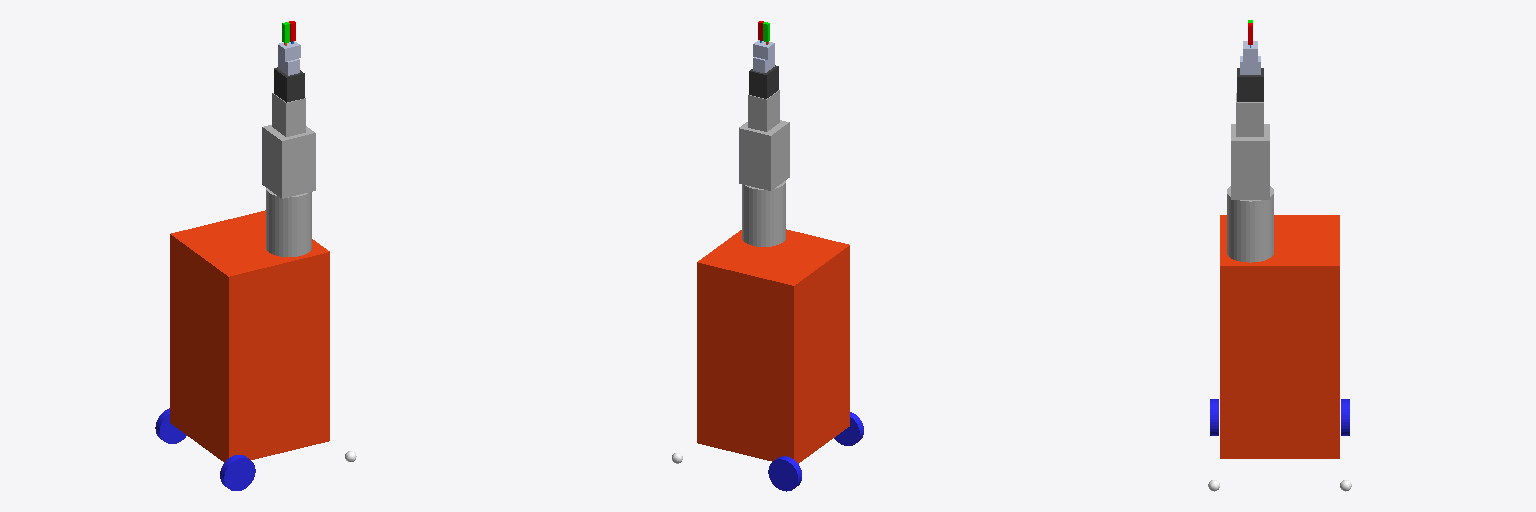
--- Render facts (derived) ---
3 views of the same robot in one strip: view 1: azimuth 30°, elevation 25°; view 2: azimuth 150°, elevation 25°; view 3: azimuth 270°, elevation 25° (orthographic).
Robot: robot_description — 22 links, 21 joints (12 revolute, 2 continuous, 7 fixed); root link base_link; default pose: all joints at 0.
Links seen in each view (by area): view 1: chassis, robot_link2, robot_link1, robot_link3, right_wheel, robot_link4, robot_link0, left_wheel; view 2: chassis, robot_link2, robot_link1, robot_link3, left_wheel, robot_link4, robot_link0, right_wheel; view 3: chassis, robot_link2, robot_link1, robot_link3, robot_link0, robot_link4.
Boxes of the visible links, box(x1,y1,x2,y2) form: chassis: box(170, 210, 329, 462); robot_link2: box(262, 125, 315, 198); robot_link1: box(266, 188, 311, 240); robot_link3: box(272, 93, 305, 136); right_wheel: box(220, 455, 255, 490); robot_link4: box(274, 67, 304, 102); robot_link0: box(266, 233, 311, 256); left_wheel: box(155, 408, 186, 443); chassis: box(697, 229, 849, 463); robot_link2: box(739, 120, 789, 190); robot_link1: box(742, 181, 785, 230); robot_link3: box(748, 90, 779, 131); left_wheel: box(768, 456, 801, 491); robot_link4: box(749, 65, 778, 98); robot_link0: box(742, 224, 785, 246); right_wheel: box(834, 412, 863, 445); chassis: box(1220, 215, 1339, 458); robot_link2: box(1231, 124, 1269, 199); robot_link1: box(1227, 186, 1273, 245); robot_link3: box(1236, 93, 1263, 136); robot_link0: box(1227, 238, 1273, 262); robot_link4: box(1237, 68, 1263, 101).
Bounding box of the posed robot: 0.5325 × 0.485 × 1.66 m (x, y, z).
Geometry: primitives only (box / cylinder / sphere), no mesh files.

robot.urdf — robot_description:
<?xml version="1.0" ?>
<!-- =================================================================================== -->
<!-- |    This document was autogenerated by xacro from robot_ignition.xacro           | -->
<!-- |    EDITING THIS FILE BY HAND IS NOT RECOMMENDED                                 | -->
<!-- =================================================================================== -->
<robot name="robot_description">
  <!-- Specify some standard inertial calculations https://en.wikipedia.org/wiki/List_of_moments_of_inertia -->
  <!-- These make use of xacro's mathematical functionality -->
  <material name="white">
    <color rgba="1 1 1 1"/>
  </material>
  <material name="orange">
    <color rgba="1 0.3 0.1 1"/>
  </material>
  <material name="blue">
    <color rgba="0.2 0.2 1 1"/>
  </material>
  <material name="black">
    <color rgba="0 0 0 1"/>
  </material>
  <material name="red">
    <color rgba="1 0 0 1"/>
  </material>
  <!-- BASE LINK -->
  <link name="base_link"/>
  <!-- BASE_FOOTPRINT LINK -->
  <joint name="base_footprint_joint" type="fixed">
    <parent link="base_link"/>
    <child link="base_footprint"/>
    <origin rpy="0 0 0" xyz="0 0 0"/>
  </joint>
  <link name="base_footprint">
    </link>
  <!-- <link name="odom"></link>
    <joint name="odom_joint" type="fixed">
        <parent link="base_link"/>
        <child link="odom"/>
        <origin xyz="0 0 0"/>
    </joint> -->
  <!-- BASE LINK -->
  <joint name="floor_joint" type="fixed">
    <parent link="base_link"/>
    <child link="floor"/>
    <origin xyz="0 0 0.0625"/>
  </joint>
  <link name="floor"/>
  <!-- BASE_FOOTPRINT LINK -->
  <!-- <joint name="base_footprint_joint" type="fixed">
        <parent link="floor"/>
        <child link="base_footprint"/>
        <origin xyz="0 0 0" rpy="0 0 0"/>
    </joint>

    <link name="base_footprint">
    </link> -->
  <!-- CHASSIS LINK -->
  <joint name="chassis_joint" type="fixed">
    <parent link="floor"/>
    <child link="chassis"/>
    <origin xyz="-0.025 0 0.025"/>
  </joint>
  <link name="chassis">
    <visual>
      <origin xyz="0.2025 0 0.36"/>
      <geometry>
        <box size="0.405 0.405 0.72"/>
      </geometry>
      <material name="orange"/>
    </visual>
    <collision>
      <origin xyz="0.2025 0 0.36"/>
      <geometry>
        <box size="0.405 0.405 0.72"/>
      </geometry>
    </collision>
    <inertial>
      <origin rpy="0 0 0" xyz="0.2025 0 0.36"/>
      <mass value="10.0"/>
      <inertia ixx="0.5686875" ixy="0.0" ixz="0.0" iyy="0.5686875" iyz="0.0" izz="0.27337500000000003"/>
    </inertial>
  </link>
  <!-- LEFT WHEEL LINK -->
  <joint name="left_wheel_joint" type="continuous">
    <parent link="floor"/>
    <child link="left_wheel"/>
    <origin rpy="-1.5707963267948966 0 0" xyz="0 0.2225 0"/>
    <axis xyz="0 0 1"/>
    <dynamics damping="21.75" friction="10.48" spring_reference="0" spring_stiffness="{joint_spring_stiffness}"/>
  </joint>
  <link name="left_wheel">
    <visual>
      <geometry>
        <cylinder length="0.03" radius="0.0625"/>
      </geometry>
      <material name="blue"/>
    </visual>
    <collision>
      <geometry>
        <sphere radius="0.0625"/>
      </geometry>
    </collision>
    <inertial>
      <origin rpy="0 0 0" xyz="0 0 0"/>
      <mass value="0.05"/>
      <inertia ixx="5.2578125e-05" ixy="0.0" ixz="0.0" iyy="5.2578125e-05" iyz="0.0" izz="9.765625e-05"/>
    </inertial>
  </link>
  <!-- RIGHT WHEEL LINK -->
  <joint name="right_wheel_joint" type="continuous">
    <parent link="floor"/>
    <child link="right_wheel"/>
    <origin rpy="1.5707963267948966 0 0" xyz="0 -0.2225 0"/>
    <axis xyz="0 0 -1"/>
    <dynamics damping="21.75" friction="10.48" spring_reference="0" spring_stiffness="{joint_spring_stiffness}"/>
  </joint>
  <link name="right_wheel">
    <visual>
      <geometry>
        <cylinder length="0.03" radius="0.0625"/>
      </geometry>
      <material name="blue"/>
    </visual>
    <collision>
      <geometry>
        <sphere radius="0.0625"/>
      </geometry>
    </collision>
    <inertial>
      <origin rpy="0 0 0" xyz="0 0 0"/>
      <mass value="0.05"/>
      <inertia ixx="5.2578125e-05" ixy="0.0" ixz="0.0" iyy="5.2578125e-05" iyz="0.0" izz="9.765625e-05"/>
    </inertial>
  </link>
  <!-- CASTER WHEEL LINK -->
  <joint name="caster_wheel_joint" type="revolute">
    <parent link="chassis"/>
    <child link="caster_wheel"/>
    <origin xyz="0.475 0.2225 -0.06749999999999999"/>
    <axis xyz="0 0 1"/>
    <limit effort="100" lower="-1.5707963267948966" upper="1.5707963267948966" velocity="100"/>
    <dynamics damping="21.75" friction="10.48" spring_reference="0" spring_stiffness="{joint_spring_stiffness}"/>
  </joint>
  <link name="caster_wheel">
    <visual>
      <geometry>
        <sphere radius="0.02"/>
      </geometry>
      <material name="white"/>
    </visual>
    <collision>
      <geometry>
        <sphere radius="0.02"/>
      </geometry>
    </collision>
    <inertial>
      <origin rpy="0 0 0" xyz="0 0 0"/>
      <mass value="0.01"/>
      <inertia ixx="1.6000000000000001e-06" ixy="0.0" ixz="0.0" iyy="1.6000000000000001e-06" iyz="0.0" izz="1.6000000000000001e-06"/>
    </inertial>
  </link>
  <joint name="caster_wheel_joint2" type="revolute">
    <parent link="chassis"/>
    <child link="caster_wheel2"/>
    <origin xyz="0.475 -0.2225 -0.06749999999999999"/>
    <axis xyz="0 0 1"/>
    <limit effort="100" lower="-1.5707963267948966" upper="1.5707963267948966" velocity="100"/>
    <dynamics damping="21.75" friction="10.48" spring_reference="0" spring_stiffness="{joint_spring_stiffness}"/>
  </joint>
  <link name="caster_wheel2">
    <visual>
      <geometry>
        <sphere radius="0.02"/>
      </geometry>
      <material name="white"/>
    </visual>
    <collision>
      <geometry>
        <sphere radius="0.02"/>
      </geometry>
    </collision>
    <inertial>
      <origin rpy="0 0 0" xyz="0 0 0"/>
      <mass value="0.01"/>
      <inertia ixx="1.6000000000000001e-06" ixy="0.0" ixz="0.0" iyy="1.6000000000000001e-06" iyz="0.0" izz="1.6000000000000001e-06"/>
    </inertial>
  </link>
  <joint name="robot_joint0" type="fixed">
    <origin rpy="0 0 0.0" xyz="0.3 -0.1 0.72"/>
    <parent link="chassis"/>
    <child link="robot_link0"/>
  </joint>
  <link name="robot_link0">
    <inertial>
      <origin rpy="0 0 0" xyz="0 0 0.031"/>
      <mass value="0.001246584"/>
      <inertia ixx="2.3938568079999997e-06" ixy="0.0" ixz="0.0" iyy="2.3938568079999997e-06" iyz="0.0" izz="3.9890688e-06"/>
    </inertial>
    <visual>
      <origin rpy="0 0 0" xyz="0 0 0.031"/>
      <geometry>
        <cylinder length="0.062" radius="0.08"/>
      </geometry>
      <material name="">
        <color rgba="0.75294 0.75294 0.75294 1"/>
      </material>
    </visual>
    <collision>
      <origin rpy="0 0 0" xyz="0 0 0.031"/>
      <geometry>
        <cylinder length="0.062" radius="0.08"/>
      </geometry>
    </collision>
  </link>
  <joint name="robot_joint1" type="revolute">
    <origin rpy="0 0 0" xyz="0 0 0.062"/>
    <parent link="robot_link0"/>
    <child link="robot_link1"/>
    <axis xyz="0 0 1"/>
    <limit effort="100" lower="-1.5707963267948966" upper="1.5707963267948966" velocity="100"/>
    <dynamics damping="0.01" friction="0.01" spring_reference="0" spring_stiffness="{joint_spring_stiffness}"/>
  </joint>
  <link name="robot_link1">
    <inertial>
      <origin rpy="0 0 0" xyz="0 0 0.08275"/>
      <mass value="0.003327575"/>
      <inertia ixx="1.2919379261979165e-05" ixy="0.0" ixz="0.0" iyy="1.2919379261979165e-05" iyz="0.0" izz="1.064824e-05"/>
    </inertial>
    <visual>
      <origin rpy="0 0 0" xyz="0 0 0.08275"/>
      <geometry>
        <cylinder length="0.1655" radius="0.08"/>
      </geometry>
      <material name="">
        <color rgba="0.75294 0.75294 0.75294 1"/>
      </material>
    </visual>
    <collision>
      <origin rpy="0 0 0" xyz="0 0 0.08275"/>
      <geometry>
        <cylinder length="0.1655" radius="0.08"/>
      </geometry>
    </collision>
  </link>
  <link name="robot_link2">
    <inertial>
      <origin rpy="0 0 0" xyz="0 0 0.1101"/>
      <mass value="0.003989399"/>
      <inertia ixx="2.214289318956667e-05" ixy="0.0" ixz="0.0" iyy="2.214289318956667e-05" iyz="0.0" izz="1.2046096664473334e-05"/>
    </inertial>
    <visual>
      <origin rpy="0 0 0" xyz="0 0 0.1101"/>
      <geometry>
        <box size="0.1346 0.1346 0.2202"/>
      </geometry>
      <material name="">
        <color rgba="0.75294 0.75294 0.75294 1"/>
      </material>
    </visual>
    <collision>
      <origin rpy="0 0 0" xyz="0 0 0.1101"/>
      <geometry>
        <box size="0.1346 0.1346 0.2202"/>
      </geometry>
    </collision>
  </link>
  <joint name="robot_joint2" type="revolute">
    <origin rpy="0 0 0" xyz="0 0 0.1655"/>
    <parent link="robot_link1"/>
    <child link="robot_link2"/>
    <axis xyz="1 0 0"/>
    <limit effort="5" lower="-1.570796327" upper="1.570796327" velocity="1"/>
    <dynamics damping="0.01" friction="0.01" spring_reference="0" spring_stiffness="{joint_spring_stiffness}"/>
  </joint>
  <link name="robot_link3">
    <inertial>
      <origin rpy="0 0 0" xyz="0 0 0.06495"/>
      <mass value="0.000957623"/>
      <inertia ixx="2.0667906377691666e-06" ixy="0.0" ixz="0.0" iyy="1.8271263295591664e-06" iyz="0.0" izz="1.2007602876233333e-06"/>
    </inertial>
    <visual>
      <origin rpy="0 0 0" xyz="0 0 0.06495"/>
      <geometry>
        <box size="0.0776 0.095 0.1299"/>
      </geometry>
      <material name="">
        <color rgba="0.75294 0.75294 0.75294 1"/>
      </material>
    </visual>
    <collision>
      <origin rpy="0 0 0" xyz="0 0 0.06495"/>
      <geometry>
        <box size="0.0776 0.095 0.1299"/>
      </geometry>
    </collision>
  </link>
  <joint name="robot_joint3" type="revolute">
    <origin rpy="0 0 0" xyz="0 0 0.2202"/>
    <parent link="robot_link2"/>
    <child link="robot_link3"/>
    <axis xyz="1 0 0"/>
    <limit effort="5" lower="-1.65" upper="1.65" velocity="1"/>
    <dynamics damping="0.01" friction="0.01" spring_reference="0" spring_stiffness="{joint_spring_stiffness}"/>
  </joint>
  <link name="robot_link4">
    <inertial>
      <origin rpy="0 0 0" xyz="0 0 0.04745"/>
      <mass value="0.000607957"/>
      <inertia ixx="8.584768277283333e-07" ixy="0.0" ixz="0.0" iyy="7.181806173616666e-07" iyz="0.0" izz="6.641129748283332e-07"/>
    </inertial>
    <visual>
      <origin rpy="0 0 0" xyz="0 0 0.04745"/>
      <geometry>
        <box size="0.0719 0.0891 0.0949"/>
      </geometry>
      <material name="">
        <color rgba="0.29412 0.29412 0.29412 1"/>
      </material>
    </visual>
    <collision>
      <origin rpy="0 0 0" xyz="0 0 0.04745"/>
      <geometry>
        <box size="0.0719 0.0891 0.0949"/>
      </geometry>
    </collision>
  </link>
  <joint name="robot_joint4" type="revolute">
    <origin rpy="0 0 0" xyz="0 0 0.1299"/>
    <parent link="robot_link3"/>
    <child link="robot_link4"/>
    <axis xyz="0 0 1"/>
    <limit effort="5" lower="-3.14" upper="3.14" velocity="1"/>
    <dynamics damping="0.01" friction="0.01" spring_reference="0" spring_stiffness="{joint_spring_stiffness}"/>
  </joint>
  <link name="robot_link5">
    <inertial>
      <origin rpy="0 0 0" xyz="0 0 0.0255"/>
      <mass value="0.00017136"/>
      <inertia ixx="1.0711428000000001e-07" ixy="0.0" ixz="0.0" iyy="7.00434e-08" iyz="0.0" izz="1.0287312000000001e-07"/>
    </inertial>
    <visual>
      <origin rpy="0 0 0" xyz="0 0 0.0255"/>
      <geometry>
        <box size="0.048 0.07 0.051"/>
      </geometry>
      <material name="">
        <color rgba="0.79216 0.81961 0.93333 1"/>
      </material>
    </visual>
    <collision>
      <origin rpy="0 0 0" xyz="0 0 0.0255"/>
      <geometry>
        <box size="0.048 0.07 0.051"/>
      </geometry>
    </collision>
  </link>
  <joint name="robot_joint5" type="revolute">
    <origin rpy="0 0 0" xyz="0 0 0.0949"/>
    <parent link="robot_link4"/>
    <child link="robot_link5"/>
    <axis xyz="1 0 0"/>
    <limit effort="5" lower="-1.570796327" upper="1.570796327" velocity="1"/>
    <dynamics damping="0.01" friction="0.01" spring_reference="0" spring_stiffness="{joint_spring_stiffness}"/>
  </joint>
  <link name="robot_link6"/>
  <joint name="robot_joint6" type="revolute">
    <origin rpy="0 0 0" xyz="0 0 0.051"/>
    <parent link="robot_link5"/>
    <child link="robot_link6"/>
    <axis xyz="0 0 1"/>
    <limit effort="5" lower="-3" upper="3" velocity="1"/>
    <dynamics damping="0.01" friction="0.01" spring_reference="0" spring_stiffness="{joint_spring_stiffness}"/>
  </joint>
  <link name="robot_link7"/>
  <joint name="robot_joint7" type="fixed">
    <origin rpy="0 0 0" xyz="0 0 0"/>
    <parent link="robot_link6"/>
    <child link="robot_link7"/>
    <axis xyz="0 0 0"/>
  </joint>
  <link name="robot_hand">
    <inertial>
      <origin rpy="0 0 0" xyz="0 0 0.0245"/>
      <mass value="0.000151743"/>
      <inertia ixx="8.086940861000001e-08" ixy="0.0" ixz="0.0" iyy="6.07224905e-08" iyz="0.0" izz="8.086940861000001e-08"/>
    </inertial>
    <visual>
      <origin rpy="0 0 0" xyz="0 0 0.0245"/>
      <geometry>
        <box size="0.049 0.0632 0.049"/>
      </geometry>
      <material name="">
        <color rgba="0.79216 0.81961 0.93333 1"/>
      </material>
    </visual>
    <collision>
      <origin rpy="0 0 0" xyz="0 0 0.0245"/>
      <geometry>
        <box size="0.049 0.0632 0.049"/>
      </geometry>
    </collision>
  </link>
  <joint name="robot_hand_joint" type="fixed">
    <origin rpy="0 0 1.570796327" xyz="0 0 0"/>
    <parent link="robot_link7"/>
    <child link="robot_hand"/>
  </joint>
  <link name="robot_camera"/>
  <joint name="robot_camera_joint" type="fixed">
    <origin rpy="0 0 1.570796327" xyz="0.0645 0 0.0685"/>
    <parent link="robot_hand"/>
    <child link="robot_camera"/>
    <axis xyz="0 0 0"/>
  </joint>
  <link name="Gripper_Servo_Gear">
    <!-- <xacro:inertial_box mass="0.000001436" x="${gripper_servo_gear_width}" y="${gripper_servo_gear_length}" z="${gripper_servo_gear_height}">
        <origin xyz="0 0 ${gripper_servo_gear_height/2}" rpy="0 0 0"/>
    </xacro:inertial_box> -->
    <inertial>
      <origin rpy="0 0 0" xyz="0.0 0.0 0.01995"/>
      <mass value="0.000476207785199474"/>
      <inertia ixx="0.001" ixy="0" ixz="0" iyy="0.001" iyz="0" izz="0.001"/>
    </inertial>
    <visual>
      <origin rpy="0 0 0" xyz="0 0 0.01995"/>
      <geometry>
        <box size="0.006 0.006 0.0399"/>
      </geometry>
      <material name="">
        <color rgba="0.9098 0.44314 0.031373 1"/>
      </material>
    </visual>
    <collision>
      <origin rpy="0 0 0" xyz="0 0 0.01995"/>
      <geometry>
        <box size="0.006 0.006 0.0399"/>
      </geometry>
    </collision>
  </link>
  <joint name="robot_finger_joint1" type="revolute">
    <origin rpy="0.0 0.0 0.0" xyz="0 0.014 0.022"/>
    <parent link="robot_hand"/>
    <child link="Gripper_Servo_Gear"/>
    <axis xyz="1 0 0"/>
    <limit effort="5.0" lower="-1.5" upper="1.5" velocity="1.0"/>
    <dynamics damping="0.01" friction="0.01" spring_reference="0" spring_stiffness="{gripper_joint_spring_stiffness}"/>
  </joint>
  <link name="robot_rightfinger">
    <!-- <xacro:inertial_box mass="0.00002646" x="${tip_gripper_servo_width}" y="${tip_gripper_servo_length}" z="${tip_gripper_servo_height}">
        <origin xyz="0 0.003 ${tip_gripper_servo_height/2.0}" rpy="0 0 0"/>
    </xacro:inertial_box> -->
    <inertial>
      <origin rpy="0 0 0" xyz="0.0 0.003 0.035"/>
      <mass value="0.000476207785199474"/>
      <inertia ixx="0.001" ixy="0" ixz="0" iyy="0.001" iyz="0" izz="0.001"/>
    </inertial>
    <visual>
      <origin rpy="0 0 0" xyz="0 -0.003 0.035"/>
      <geometry>
        <box size="0.018 0.021 0.07"/>
      </geometry>
      <material name="">
        <color rgba="0 1 0 1"/>
      </material>
    </visual>
    <collision>
      <origin rpy="0 0 0" xyz="0 -0.003 0.035"/>
      <geometry>
        <box size="0.018 0.021 0.07"/>
      </geometry>
    </collision>
  </link>
  <joint name="Tip_Gripper_Servo_Joint" type="revolute">
    <origin rpy="0 0 0" xyz="0 0 0.04"/>
    <parent link="Gripper_Servo_Gear"/>
    <child link="robot_rightfinger"/>
    <axis xyz="1 0 0"/>
    <limit effort="5.0" lower="-1.5" upper="1.5" velocity="1.0"/>
    <dynamics damping="0.01" friction="0.01" spring_reference="0" spring_stiffness="{gripper_joint_spring_stiffness}"/>
  </joint>
  <link name="Gripper_Idol_Gear">
    <!-- <xacro:inertial_box mass="0.000001436" x="${gripper_idol_gear_width}" y="${gripper_idol_gear_length}" z="${gripper_idol_gear_height}">
        <origin xyz="0 0.0 ${gripper_idol_gear_height/2.0}" rpy="0 0 0"/>
    </xacro:inertial_box> -->
    <inertial>
      <origin rpy="0 0 0" xyz="0.0 0.0 0.01995"/>
      <mass value="0.000476207785199481"/>
      <inertia ixx="0.001" ixy="0" ixz="0" iyy="0.001" iyz="0" izz="0.001"/>
    </inertial>
    <visual>
      <origin rpy="0 0 0" xyz="0 0 0.01995"/>
      <geometry>
        <box size="0.006 0.006 0.0399"/>
      </geometry>
      <material name="">
        <color rgba="0.058824 0.64706 1 1"/>
      </material>
    </visual>
    <collision>
      <origin rpy="0 0 0" xyz="0 0 0.01995"/>
      <geometry>
        <box size="0.006 0.006 0.0399"/>
      </geometry>
    </collision>
  </link>
  <joint name="robot_finger_joint2" type="revolute">
    <origin rpy="0.0 0.0 0.0" xyz="0 -0.014 0.022"/>
    <parent link="robot_hand"/>
    <child link="Gripper_Idol_Gear"/>
    <axis xyz="1 0 0"/>
    <limit effort="5.0" lower="-1.5" upper="1.5" velocity="1.0"/>
    <dynamics damping="0.01" friction="0.01" spring_reference="0" spring_stiffness="{gripper_joint_spring_stiffness}"/>
  </joint>
  <link name="robot_leftfinger">
    <!-- <xacro:inertial_box mass="0.00002646" x="${tip_gripper_idol_width}" y="${tip_gripper_idol_length}" z="${tip_gripper_idol_height}">
        <origin xyz="0 0.0 ${tip_gripper_idol_height/2.0}" rpy="0 0 0"/>
    </xacro:inertial_box> -->
    <inertial>
      <origin rpy="0 0 0" xyz="0.0 0.003 0.035"/>
      <mass value="0.000476207785199481"/>
      <inertia ixx="0.001" ixy="0" ixz="0" iyy="0.001" iyz="0" izz="0.001"/>
    </inertial>
    <visual>
      <origin rpy="0 0 0" xyz="0 0.003 0.035"/>
      <geometry>
        <box size="0.018 0.021 0.07"/>
      </geometry>
      <material name="">
        <color rgba="1 0 0 1"/>
      </material>
    </visual>
    <collision>
      <origin rpy="0 0 0" xyz="0 0.003 0.035"/>
      <geometry>
        <box size="0.018 0.021 0.07"/>
      </geometry>
    </collision>
  </link>
  <joint name="Tip_Gripper_Idol_Joint" type="revolute">
    <origin rpy="0 0 0" xyz="0 0 0.04"/>
    <parent link="Gripper_Idol_Gear"/>
    <child link="robot_leftfinger"/>
    <axis xyz="1 0 0"/>
    <limit effort="5.0" lower="-1.5" upper="1.5" velocity="1.0"/>
    <dynamics damping="0.01" friction="0.01" spring_reference="0" spring_stiffness="{gripper_joint_spring_stiffness}"/>
  </joint>
  <!-- <xacro:include filename="lidar.xacro" />
    <xacro:include filename="face.xacro" /> -->
  <!-- <xacro:include filename="ros2_control.xacro" /> -->
  <!-- <xacro:if value="$(arg use_ros2_control)">
        <xacro:include filename="ros2_control.xacro" />
    </xacro:if>
    <xacro:unless value="$(arg use_ros2_control)">
        <xacro:include filename="gazebo_control.xacro" />
    </xacro:unless>
    <xacro:include filename="lidar.xacro" /> -->
  <!-- <xacro:include filename="camera.xacro" /> -->
  <!-- <xacro:include filename="depth_camera.xacro" /> -->
  <!-- <xacro:include filename="face.xacro" /> -->
  <gazebo>
    <!-- Odometry Publisher -->
    <plugin filename="ignition-gazebo-odometry-publisher-system" name="ignition::gazebo::systems::OdometryPublisher">
      <odom_publish_frequency>50</odom_publish_frequency>
      <odom_topic>/odom</odom_topic>
      <odom_frame>odom</odom_frame>
      <robot_base_frame>base_link</robot_base_frame>
      <dimensions>3</dimensions>
    </plugin>
    <!-- Joint States -->
    <plugin filename="libignition-gazebo-joint-state-publisher-system.so" name="ignition::gazebo::systems::JointStatePublisher"/>
    <!-- Diff Drive -->
    <plugin filename="libignition-gazebo-diff-drive-system.so" name="ignition::gazebo::systems::DiffDrive">
      <left_joint>left_wheel_joint</left_joint>
      <right_joint>right_wheel_joint</right_joint>
      <wheel_separation>0.445</wheel_separation>
      <wheel_radius>0.0625</wheel_radius>
      <odom_publish_frequency>0</odom_publish_frequency>
      <topic>cmd_vel</topic>
      <frame_id>odom_diff</frame_id>
      <child_frame_id>base_footprint</child_frame_id>
    </plugin>
    <!-- Joint Trajectories -->
    <plugin filename="libignition-gazebo-joint-trajectory-controller-system.so" name="ignition::gazebo::systems::JointTrajectoryController">
      <topic>joint_trajectory</topic>
      <joint_name>robot_joint1</joint_name>
      <initial_position>0</initial_position>
      <position_p_gain>1.0</position_p_gain>
      <position_d_gain>0.01</position_d_gain>
      <position_i_gain>0.1</position_i_gain>
      <position_i_min>-0.2</position_i_min>
      <position_i_max>0.2</position_i_max>
      <position_cmd_min>-100</position_cmd_min>
      <position_cmd_max>100</position_cmd_max>
      <joint_name>robot_joint2</joint_name>
      <initial_position>0</initial_position>
      <position_p_gain>1.0</position_p_gain>
      <position_d_gain>0.01</position_d_gain>
      <position_i_gain>0.1</position_i_gain>
      <position_i_min>-0.2</position_i_min>
      <position_i_max>0.2</position_i_max>
      <position_cmd_min>-100</position_cmd_min>
      <position_cmd_max>100</position_cmd_max>
      <joint_name>robot_joint3</joint_name>
      <initial_position>0</initial_position>
      <position_p_gain>1.0</position_p_gain>
      <position_d_gain>0.01</position_d_gain>
      <position_i_gain>0.1</position_i_gain>
      <position_i_min>-0.2</position_i_min>
      <position_i_max>0.2</position_i_max>
      <position_cmd_min>-100</position_cmd_min>
      <position_cmd_max>100</position_cmd_max>
      <joint_name>robot_joint4</joint_name>
      <initial_position>0</initial_position>
      <position_p_gain>1.0</position_p_gain>
      <position_d_gain>0.01</position_d_gain>
      <position_i_gain>0.1</position_i_gain>
      <position_i_min>-0.2</position_i_min>
      <position_i_max>0.2</position_i_max>
      <position_cmd_min>-100</position_cmd_min>
      <position_cmd_max>100</position_cmd_max>
      <joint_name>robot_joint5</joint_name>
      <initial_position>0</initial_position>
      <position_p_gain>1.0</position_p_gain>
      <position_d_gain>0.01</position_d_gain>
      <position_i_gain>0.1</position_i_gain>
      <position_i_min>-0.2</position_i_min>
      <position_i_max>0.2</position_i_max>
      <position_cmd_min>-100</position_cmd_min>
      <position_cmd_max>100</position_cmd_max>
      <joint_name>robot_joint6</joint_name>
      <initial_position>0</initial_position>
      <position_p_gain>1.0</position_p_gain>
      <position_d_gain>0.01</position_d_gain>
      <position_i_gain>0.1</position_i_gain>
      <position_i_min>-0.2</position_i_min>
      <position_i_max>0.2</position_i_max>
      <position_cmd_min>-100</position_cmd_min>
      <position_cmd_max>100</position_cmd_max>
      <joint_name>robot_finger_joint1</joint_name>
      <initial_position>0</initial_position>
      <position_p_gain>1.0</position_p_gain>
      <position_d_gain>0.01</position_d_gain>
      <position_i_gain>0.1</position_i_gain>
      <position_i_min>-0.2</position_i_min>
      <position_i_max>0.2</position_i_max>
      <position_cmd_min>-100</position_cmd_min>
      <position_cmd_max>100</position_cmd_max>
      <joint_name>robot_finger_joint2</joint_name>
      <initial_position>0</initial_position>
      <position_p_gain>1.0</position_p_gain>
      <position_d_gain>0.01</position_d_gain>
      <position_i_gain>0.1</position_i_gain>
      <position_i_min>-0.2</position_i_min>
      <position_i_max>0.2</position_i_max>
      <position_cmd_min>-100</position_cmd_min>
      <position_cmd_max>100</position_cmd_max>
      <joint_name>Tip_Gripper_Servo_Joint</joint_name>
      <initial_position>0</initial_position>
      <position_p_gain>1.0</position_p_gain>
      <position_d_gain>0.01</position_d_gain>
      <position_i_gain>0.1</position_i_gain>
      <position_i_min>-0.2</position_i_min>
      <position_i_max>0.2</position_i_max>
      <position_cmd_min>-100</position_cmd_min>
      <position_cmd_max>100</position_cmd_max>
      <joint_name>Tip_Gripper_Idol_Joint</joint_name>
      <initial_position>0</initial_position>
      <position_p_gain>1.0</position_p_gain>
      <position_d_gain>0.01</position_d_gain>
      <position_i_gain>0.1</position_i_gain>
      <position_i_min>-0.2</position_i_min>
      <position_i_max>0.2</position_i_max>
      <position_cmd_min>-100</position_cmd_min>
      <position_cmd_max>100</position_cmd_max>
    </plugin>
  </gazebo>
</robot>
